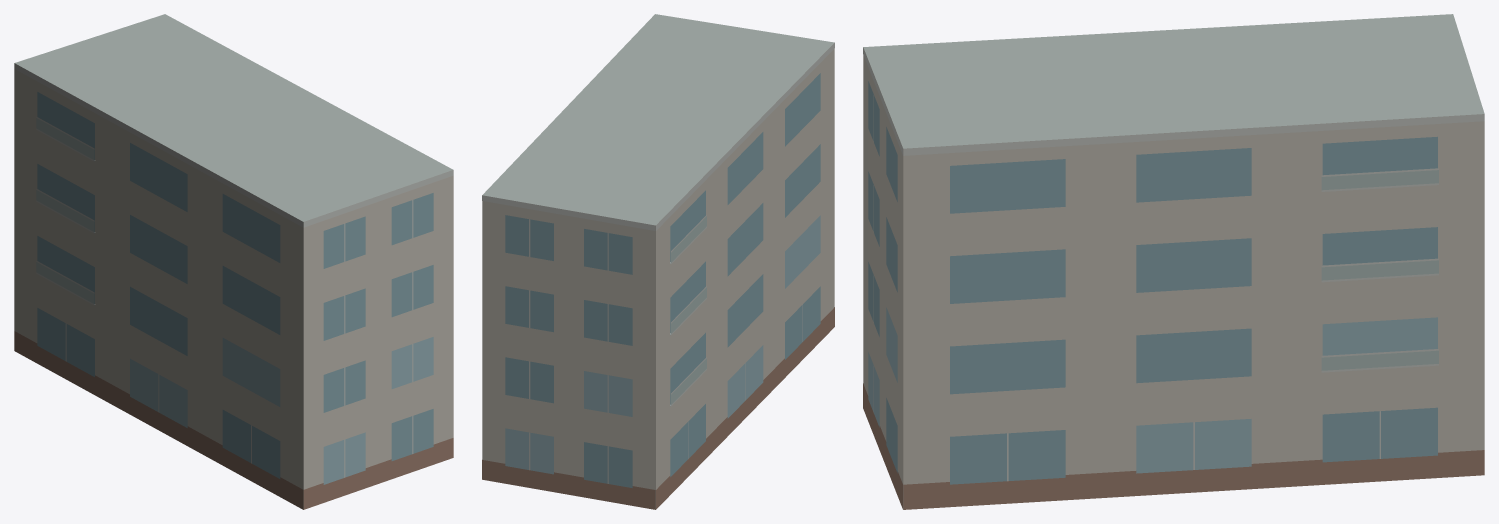
File: survey-upis-32720437.glb
3 views of the same model, side by side, from view 1: azimuth 30°, elevation 25°; view 2: azimuth 150°, elevation 25°; view 3: azimuth 270°, elevation 25° (orthographic). The views are drawn at different scales.
Parts seen in each view (by area): view 1: survey-upis-32720437.tmp; view 2: survey-upis-32720437.tmp; view 3: survey-upis-32720437.tmp.
Part boxes in pixels (bbox=[...]): survey-upis-32720437.tmp: bbox=[14, 14, 453, 509]; survey-upis-32720437.tmp: bbox=[482, 14, 834, 509]; survey-upis-32720437.tmp: bbox=[863, 14, 1484, 509].
Size of the model in its own units: 9.76 by 12.2 by 19.04.
